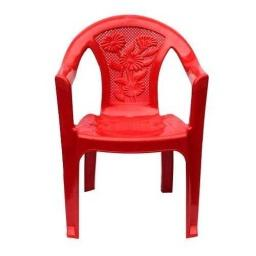Chair: (56, 13, 210, 240)
